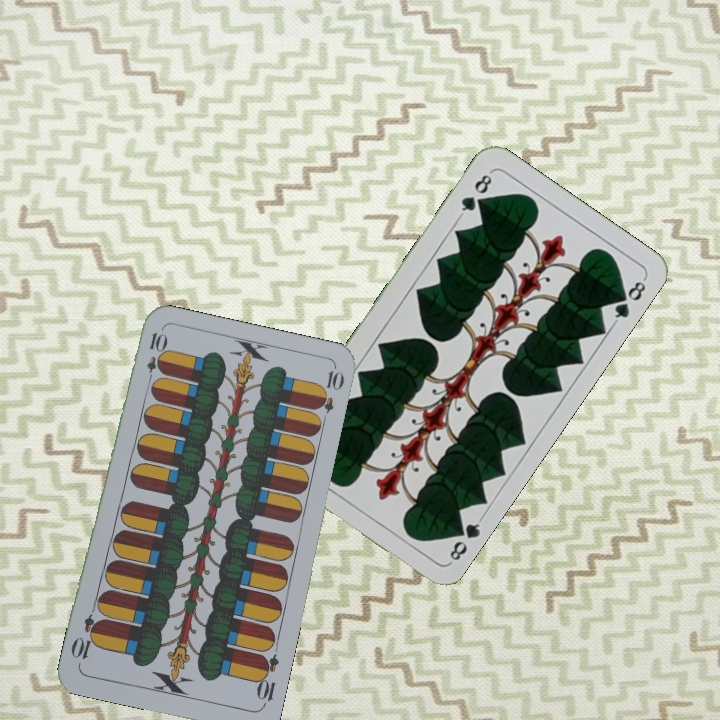E10: (252, 651, 281, 710), (142, 328, 167, 387)
G8: (445, 514, 486, 566), (455, 168, 495, 220)
